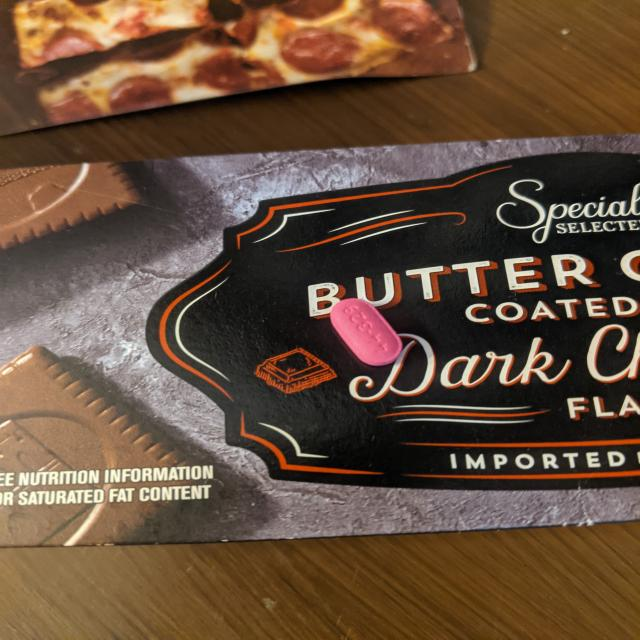non-organic waste: (329, 297, 404, 367)
